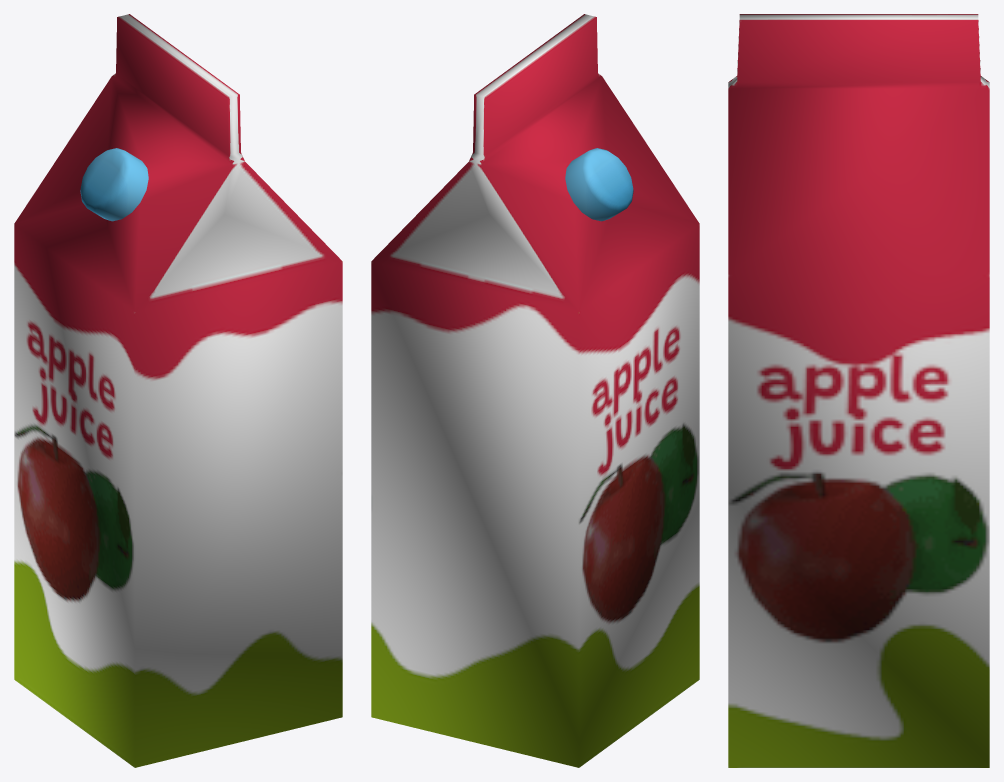
File: applejuicegfx.glb
3 renders of one model, left to right at view 1: azimuth 30°, elevation 25°; view 2: azimuth 150°, elevation 25°; view 3: azimuth 270°, elevation 25°, orthographic. The views are drawn at different scales.
Visible parts, largest first — view 1: applejuicegfx, applejuicegfx.001; view 2: applejuicegfx, applejuicegfx.001; view 3: applejuicegfx.
Part boxes in pixels (x1,y1,x2,y2): applejuicegfx: [14, 14, 342, 767]; applejuicegfx.001: [80, 148, 148, 221]; applejuicegfx: [371, 14, 699, 767]; applejuicegfx.001: [565, 148, 633, 221]; applejuicegfx: [728, 14, 989, 767].
Size of the model in its own units: 0.1732 by 0.5116 by 0.1742.
1 material, 1 textured.
